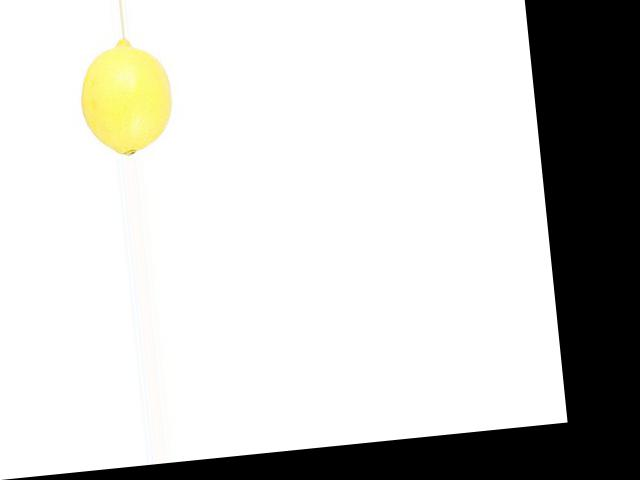lemon: (76, 33, 178, 160)
